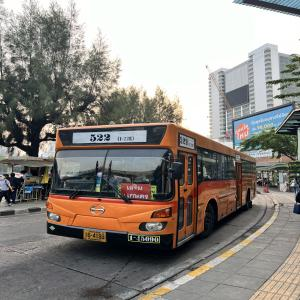BMTA-bus: (45, 123, 257, 252)
Bus Line Number: (89, 132, 137, 142)
Bus Side Number: (128, 234, 162, 244)
Destination Sign: (121, 184, 149, 199)
